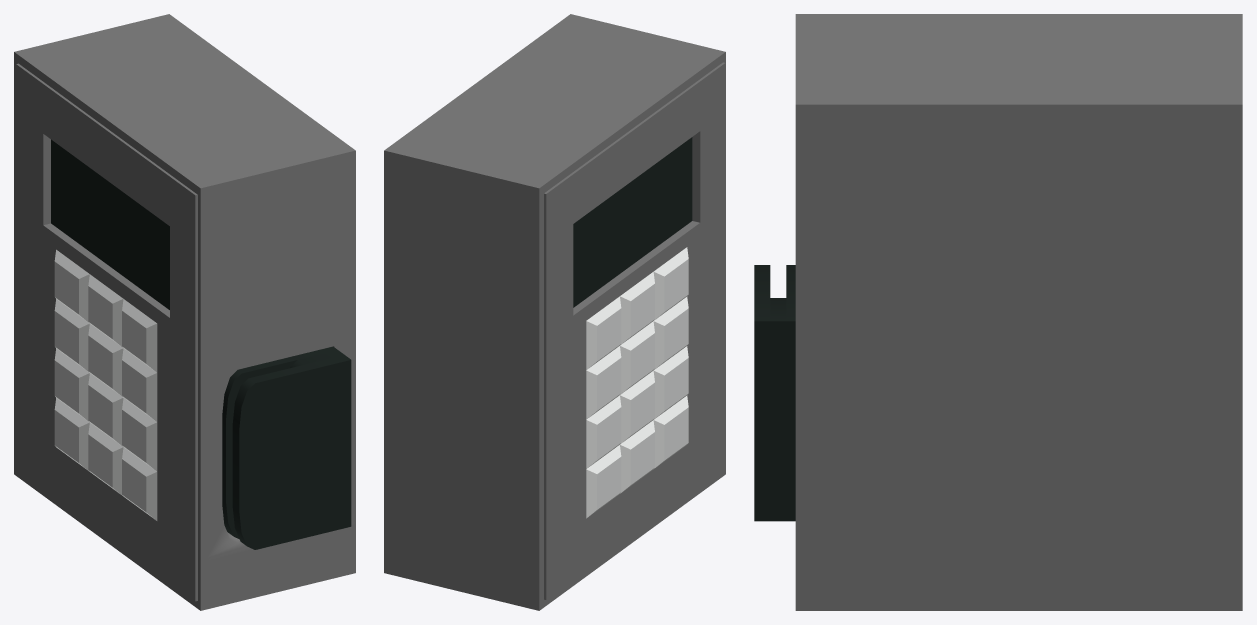
File: Terminal_Textured.fbx
3 views of the same model, side by side, from view 1: azimuth 30°, elevation 25°; view 2: azimuth 150°, elevation 25°; view 3: azimuth 270°, elevation 25° (orthographic). The views are drawn at different scales.
Parts seen in each view (by area): view 1: Terminal_Back, Terminall_Front; view 2: Terminal_Back, Terminall_Front; view 3: Terminal_Back.
Part boxes in pixels (x1=…): Terminal_Back: x1=14, y1=14, x2=355, y2=610; Terminall_Front: x1=16, y1=63, x2=197, y2=601; Terminal_Back: x1=384, y1=14, x2=725, y2=610; Terminall_Front: x1=544, y1=62, x2=725, y2=599; Terminal_Back: x1=754, y1=14, x2=1242, y2=610.
Size of the model in its own units: 10.56 by 26.02 by 22.74.
8 materials, 2 textured.
